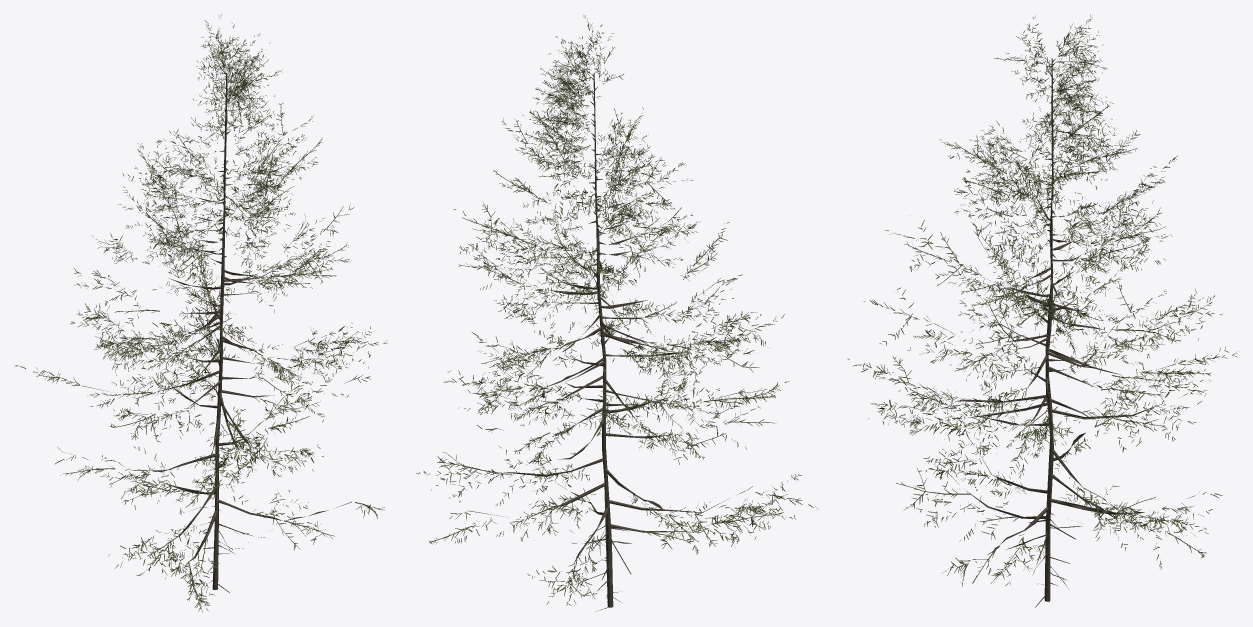
The model's file is fir-lite.glb.
The picture shows the model from 3 angles, left to right: view 1: azimuth 30°, elevation 25°; view 2: azimuth 150°, elevation 25°; view 3: azimuth 270°, elevation 25°; orthographic projection. The views are drawn at different scales.
Visible parts, largest first — view 1: fir; view 2: fir; view 3: fir.
Boxes of the visible parts, box(x1,y1,x2,y2) form: fir: box(14, 14, 387, 612); fir: box(416, 15, 818, 611); fir: box(847, 14, 1238, 607).
Size of the model in its own units: 4.88 by 8.79 by 5.19.
Materials: 2 (2 with a texture image).
